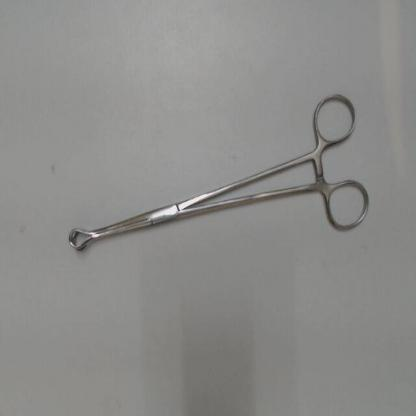8 Babcock Tissue Forceps: (62, 86, 374, 262)
